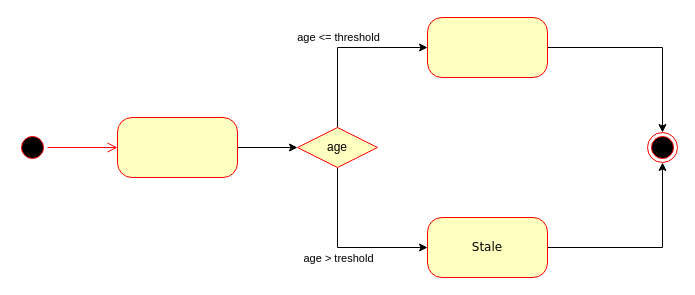
Some shapes in this 695 by 295 pixel diagram are drawn without their labels. Each missing label, with the box of its shape:
Closed: (426, 16, 548, 78)
Open: (116, 116, 238, 178)
